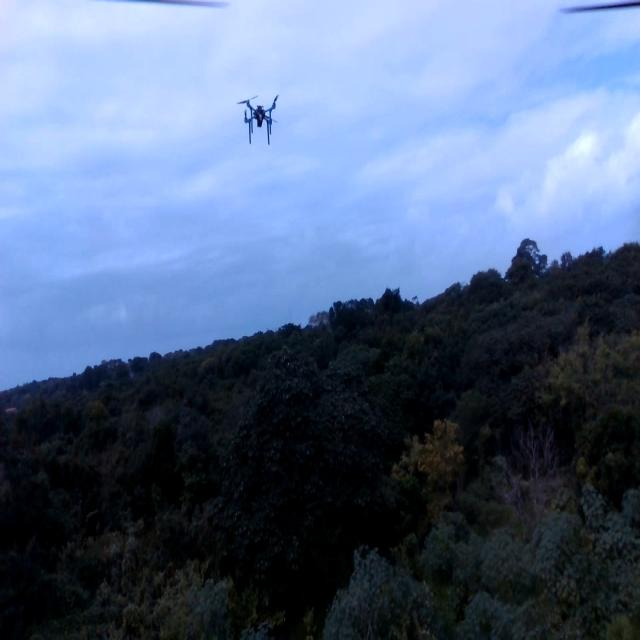-uav-: (231, 76, 288, 152)
